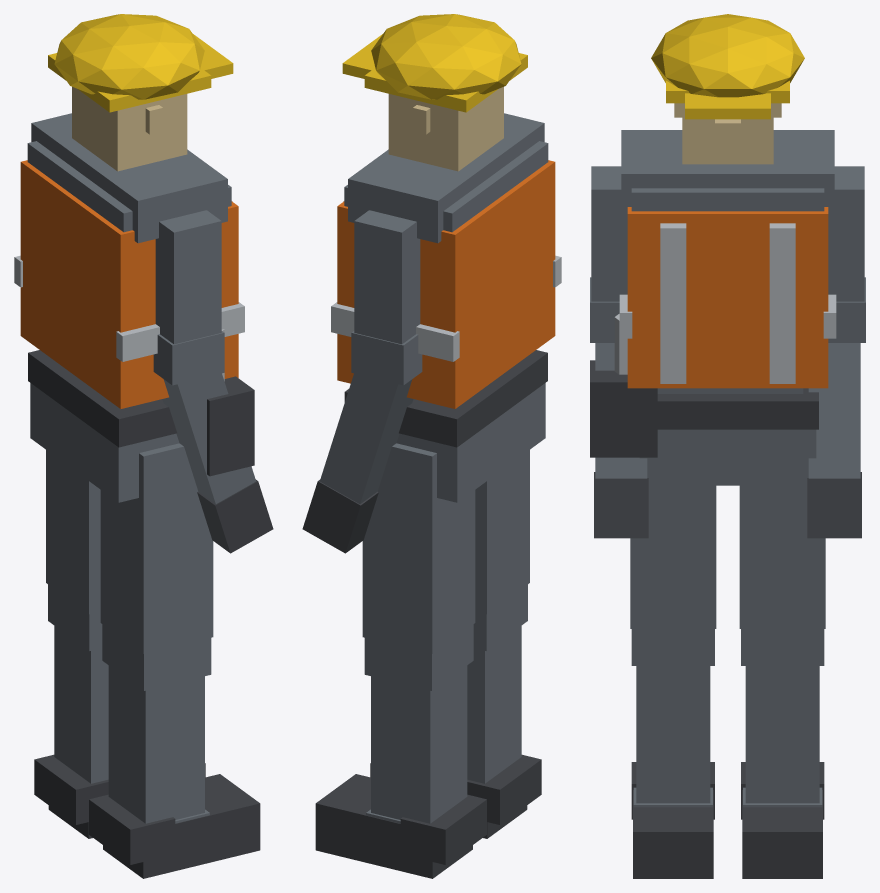
File: worker.glb
The picture shows the model from 3 angles, left to right: view 1: azimuth 30°, elevation 25°; view 2: azimuth 150°, elevation 25°; view 3: azimuth 270°, elevation 25°; orthographic projection.
Visible parts, largest first — view 1: Worker_Body, Worker_LegR, Worker_LegL, Worker_ArmR; view 2: Worker_Body, Worker_LegL, Worker_ArmL, Worker_LegR; view 3: Worker_Body, Worker_LegL, Worker_LegR, Worker_ArmL, Worker_ArmR.
Boxes of the visible parts, <box> form: Worker_Body: <box>14,14,254,502</box>; Worker_LegR: <box>89,443,260,878</box>; Worker_LegL: <box>34,450,205,838</box>; Worker_ArmR: <box>153,210,273,553</box>; Worker_Body: <box>331,14,561,502</box>; Worker_LegL: <box>315,443,486,878</box>; Worker_ArmL: <box>302,210,422,553</box>; Worker_LegR: <box>370,450,541,838</box>; Worker_Body: <box>590,14,836,485</box>; Worker_LegL: <box>739,485,825,878</box>; Worker_LegR: <box>630,485,716,878</box>; Worker_ArmL: <box>807,166,865,538</box>; Worker_ArmR: <box>590,166,648,538</box>.
Bounding box in the file's own units: 0.3258 × 1.72 × 0.53.
